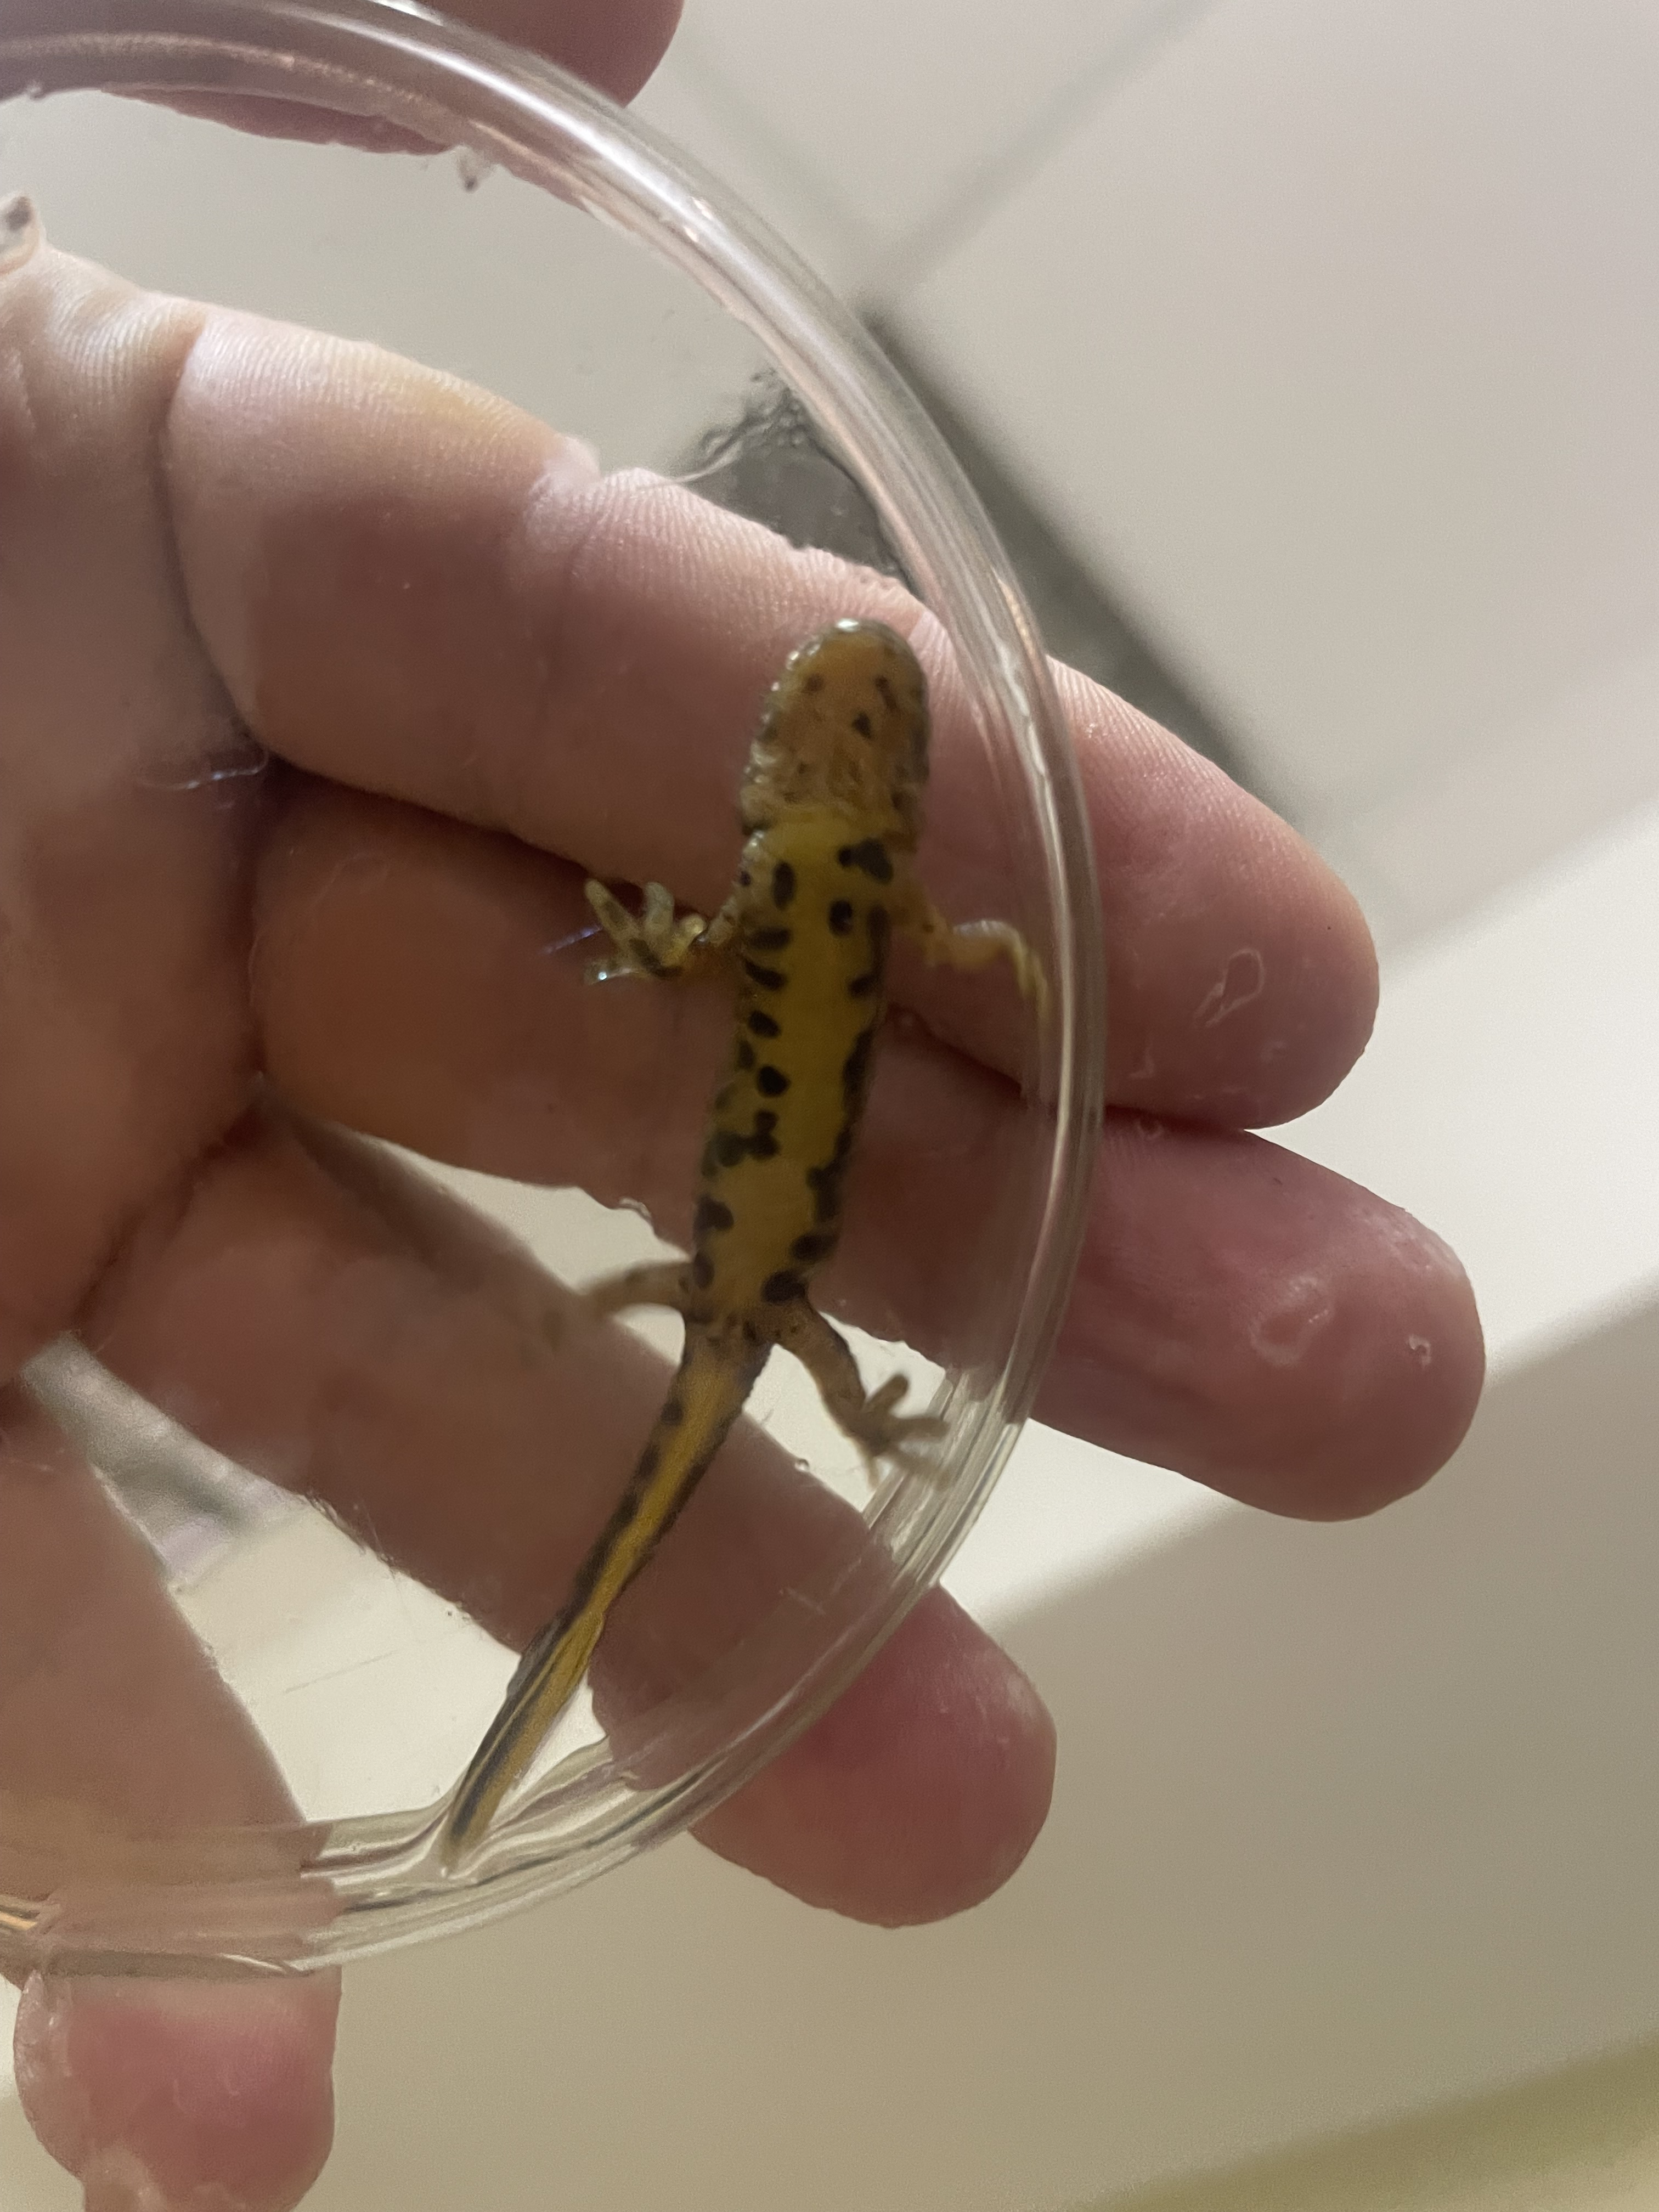Karelin_newt: (690, 927, 892, 1294)
